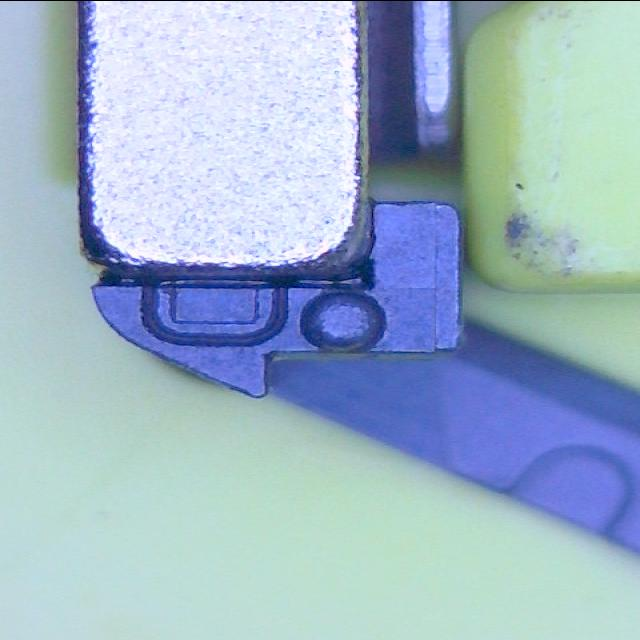lacking: (138, 274, 292, 346)
